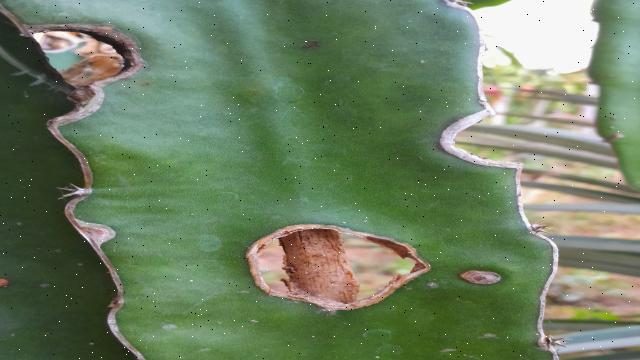stemcanker: (459, 269, 505, 287)
